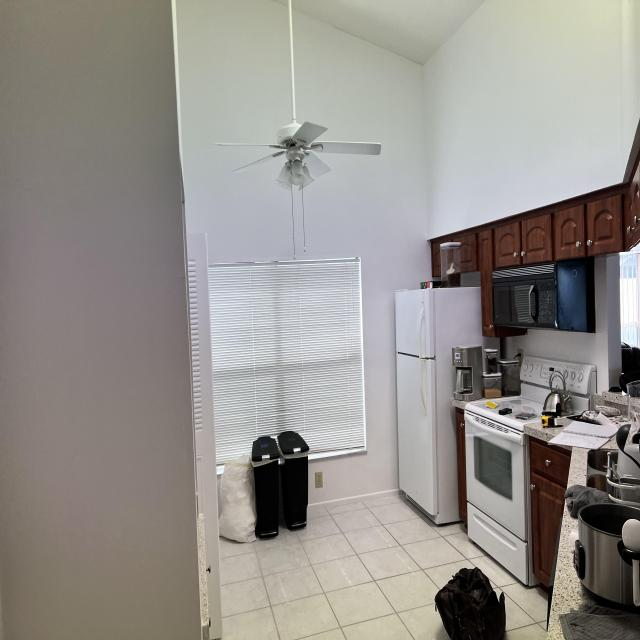Appliance_Fridge: (393, 287, 483, 528)
Appliance_Microwave: (491, 258, 596, 334)
Appliance_Oven: (464, 355, 596, 587)
Cabinet_Flat: (531, 441, 571, 488), (457, 409, 464, 442)
Cabinet_Raised_Panel: (431, 123, 640, 337)
Cabinet_Shaker: (531, 474, 565, 588), (456, 431, 466, 521)
Countertop_Granite: (546, 504, 640, 640), (567, 447, 589, 489), (524, 420, 563, 443)
